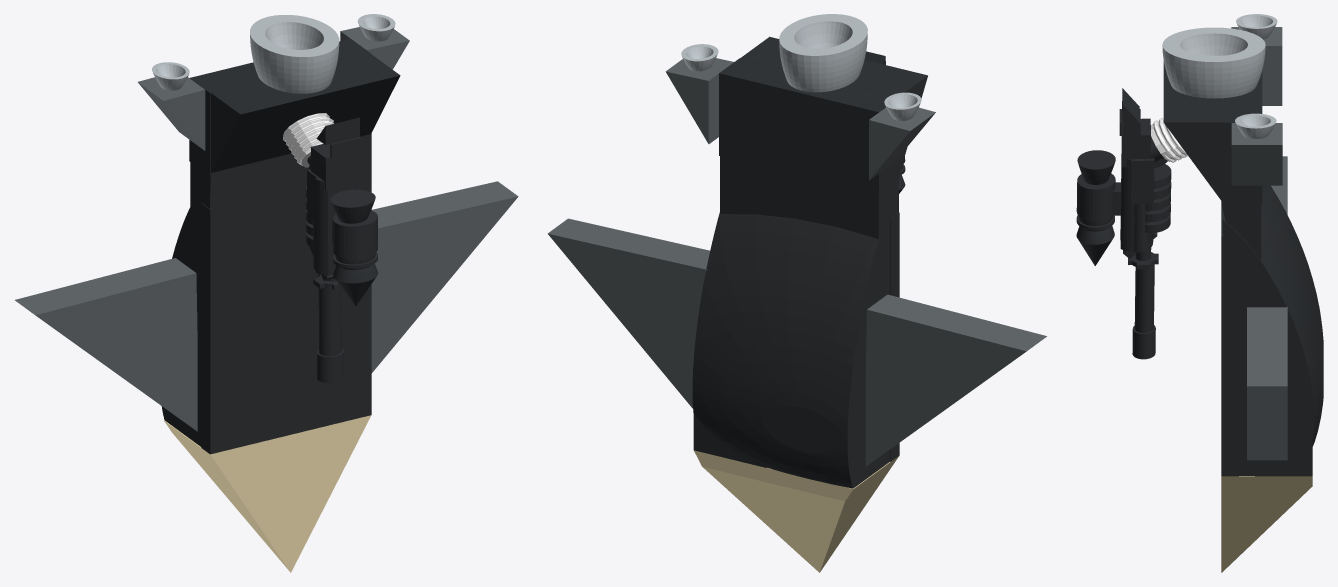
Rendered from tinker.obj.
3 renders of one model, left to right at view 1: azimuth 30°, elevation 25°; view 2: azimuth 150°, elevation 25°; view 3: azimuth 270°, elevation 25°, orthographic. The views are drawn at different scales.
Visible parts, largest first — view 1: group_2829873, group_6383466, group_16311991, group_12568524, group_16448250; view 2: group_2829873, group_6383466, group_16311991, group_12568524; view 3: group_2829873, group_6383466, group_12568524, group_16311991, group_16448250.
Boxes of the visible parts, x1=… form: group_2829873: x1=161, y1=38, x2=400, y2=454; group_6383466: x1=15, y1=27, x2=518, y2=431; group_16311991: x1=164, y1=415, x2=371, y2=572; group_12568524: x1=152, y1=14, x2=395, y2=93; group_16448250: x1=283, y1=113, x2=333, y2=167; group_2829873: x1=692, y1=36, x2=927, y2=488; group_6383466: x1=547, y1=58, x2=1046, y2=466; group_16311991: x1=694, y1=450, x2=898, y2=572; group_12568524: x1=681, y1=14, x2=921, y2=120; group_2829873: x1=1076, y1=61, x2=1323, y2=476; group_6383466: x1=1231, y1=27, x2=1287, y2=460; group_12568524: x1=1162, y1=14, x2=1277, y2=138; group_16311991: x1=1221, y1=476, x2=1312, y2=572; group_16448250: x1=1151, y1=118, x2=1187, y2=162.
Size of the model in its own units: 53.54 by 57.12 by 24.22.
